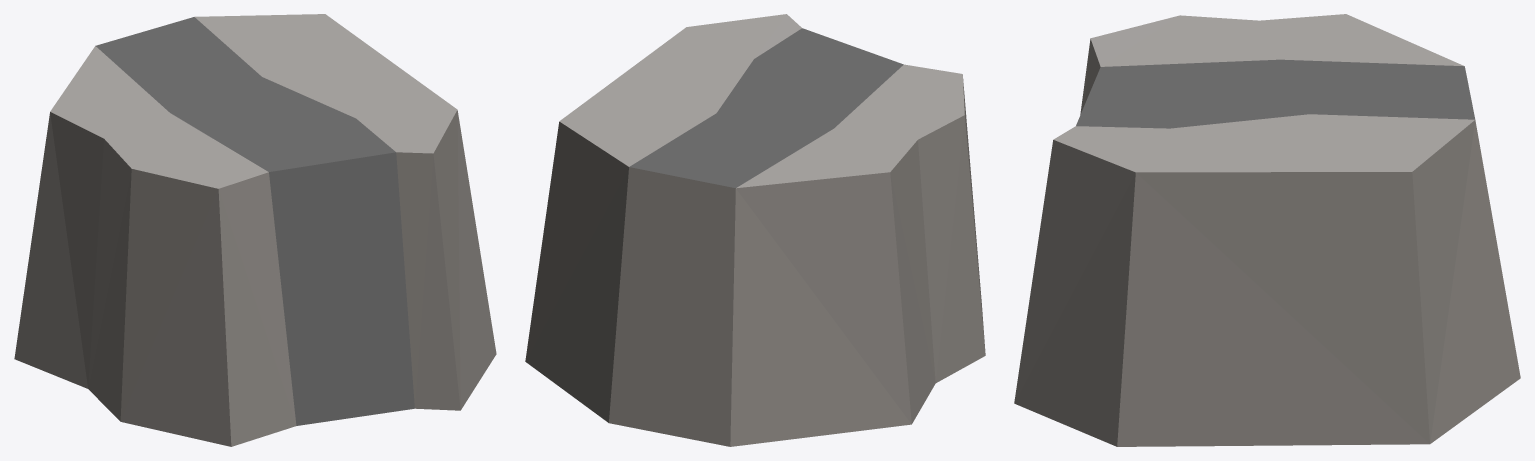
The picture shows the model from 3 angles, left to right: view 1: azimuth 30°, elevation 25°; view 2: azimuth 150°, elevation 25°; view 3: azimuth 270°, elevation 25°; orthographic projection. The views are drawn at different scales.
Parts seen in each view (by area): view 1: Object417; view 2: Object417; view 3: Object417.
Part boxes in pixels (x1,y1,x2,y2): Object417: (14, 14, 496, 446); Object417: (525, 14, 985, 446); Object417: (1014, 14, 1520, 446).
Size of the model in its own units: 1876 by 1201 by 2127.
